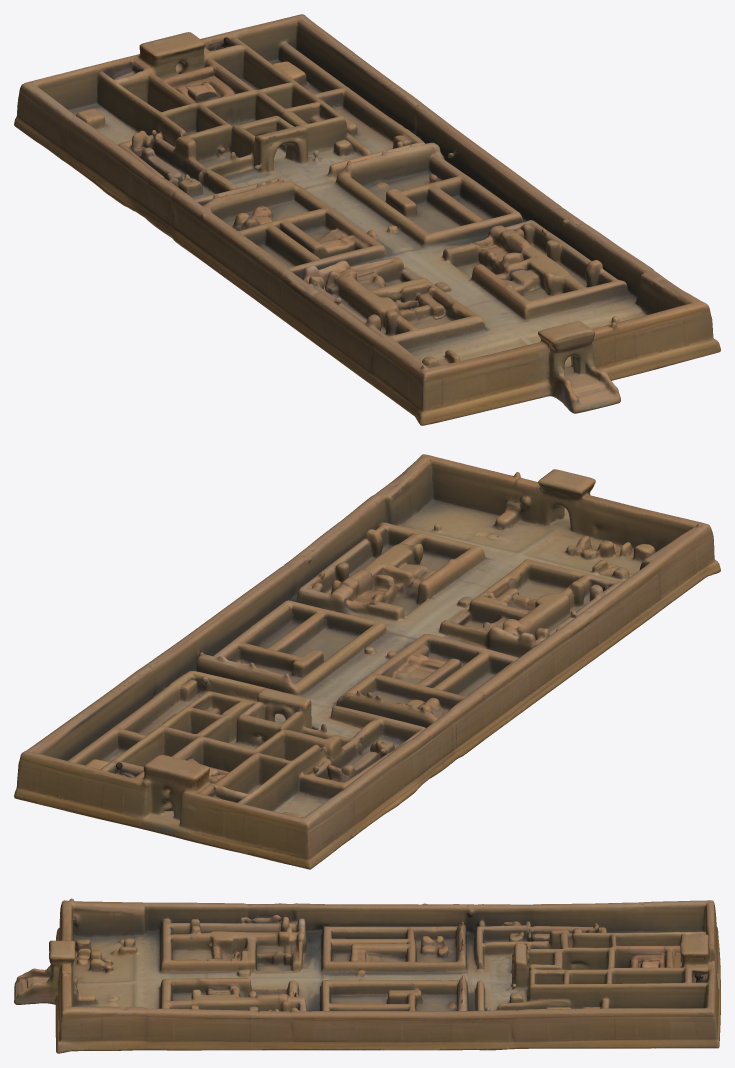
Rendered from dholavira.glb.
The picture shows the model from 3 angles, top to bottom: view 1: azimuth 30°, elevation 25°; view 2: azimuth 150°, elevation 25°; view 3: azimuth 270°, elevation 25°; orthographic projection. The views are drawn at different scales.
Parts seen in each view (by area): view 1: tripo_node_7f928937-ddce-4765-bb53-76bbda22e71e; view 2: tripo_node_7f928937-ddce-4765-bb53-76bbda22e71e; view 3: tripo_node_7f928937-ddce-4765-bb53-76bbda22e71e.
Part boxes in pixels (x1=…): tripo_node_7f928937-ddce-4765-bb53-76bbda22e71e: x1=14, y1=14, x2=720, y2=425; tripo_node_7f928937-ddce-4765-bb53-76bbda22e71e: x1=14, y1=454, x2=720, y2=869; tripo_node_7f928937-ddce-4765-bb53-76bbda22e71e: x1=14, y1=898, x2=720, y2=1053.
Bounding box in the file's own units: 0.4005 × 0.0794 × 1.
1 material, 1 textured.
